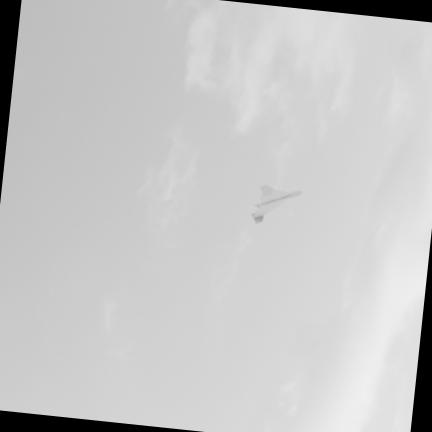Shahed: (252, 184, 301, 222)
